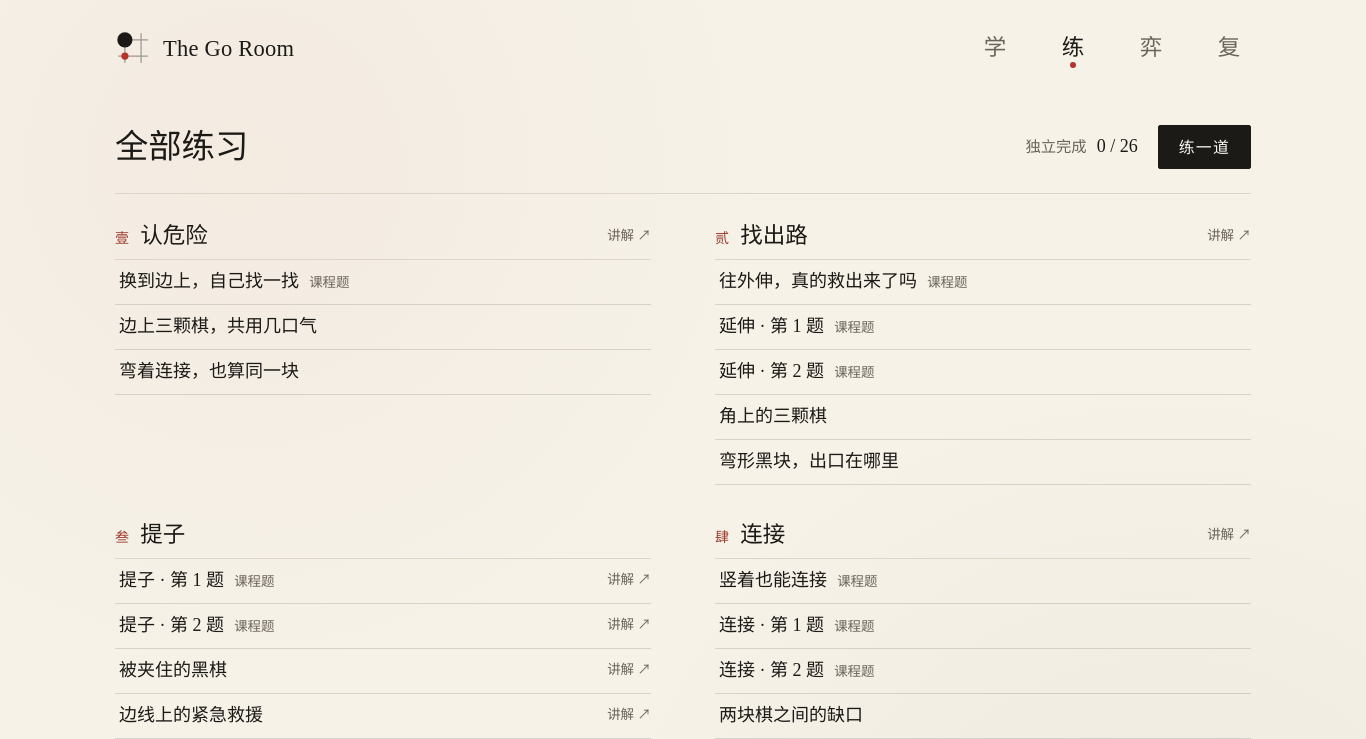
it: practice hub › uses per-kind numbering consistently in the list and exercise, with short explanation titles
The image size is (1366, 739).
Earlier steps of the test are not shown.
Click the button "提子 · 第 1 题".
click(172, 580)  # box [115, 559, 599, 603]
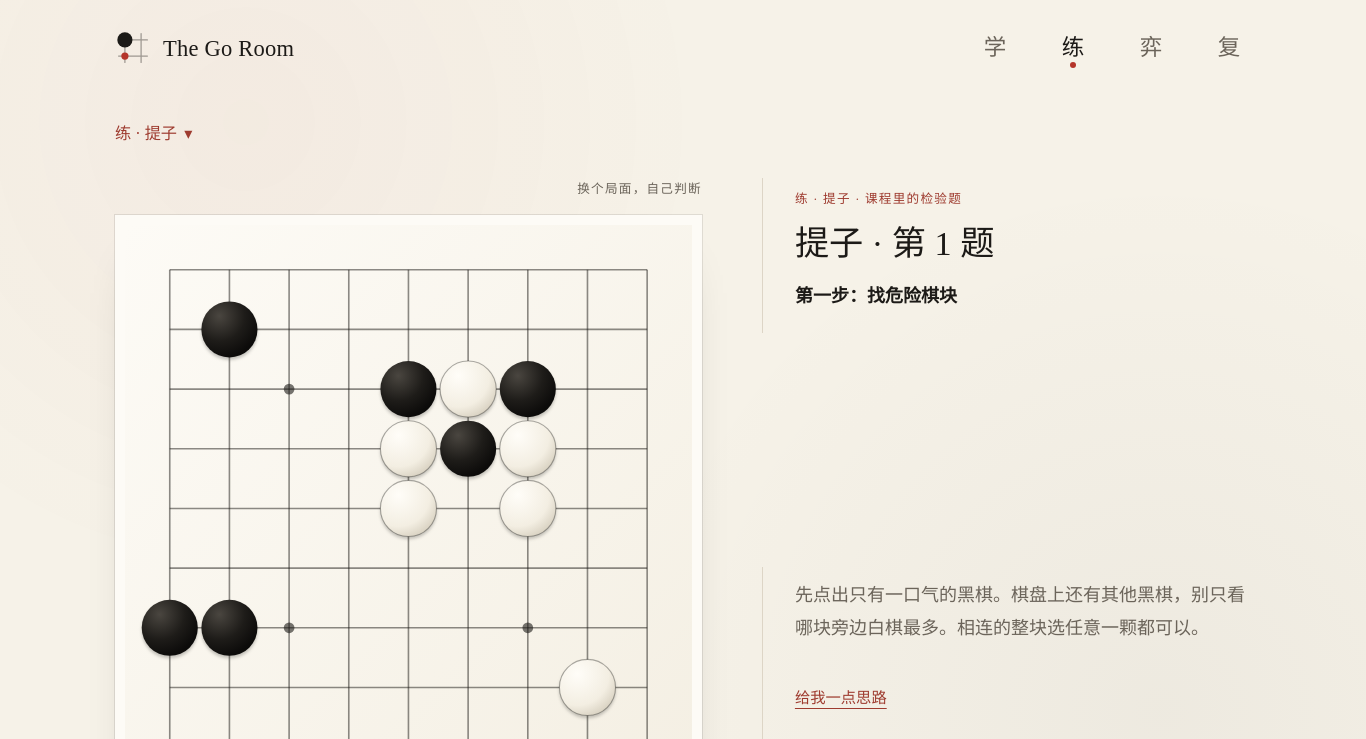
Expected: the heading "提子 · 第 1 题" is shown, [795, 225, 994, 262]
Click the button named "练习".
click(1073, 48)  # box [1051, 26, 1095, 70]
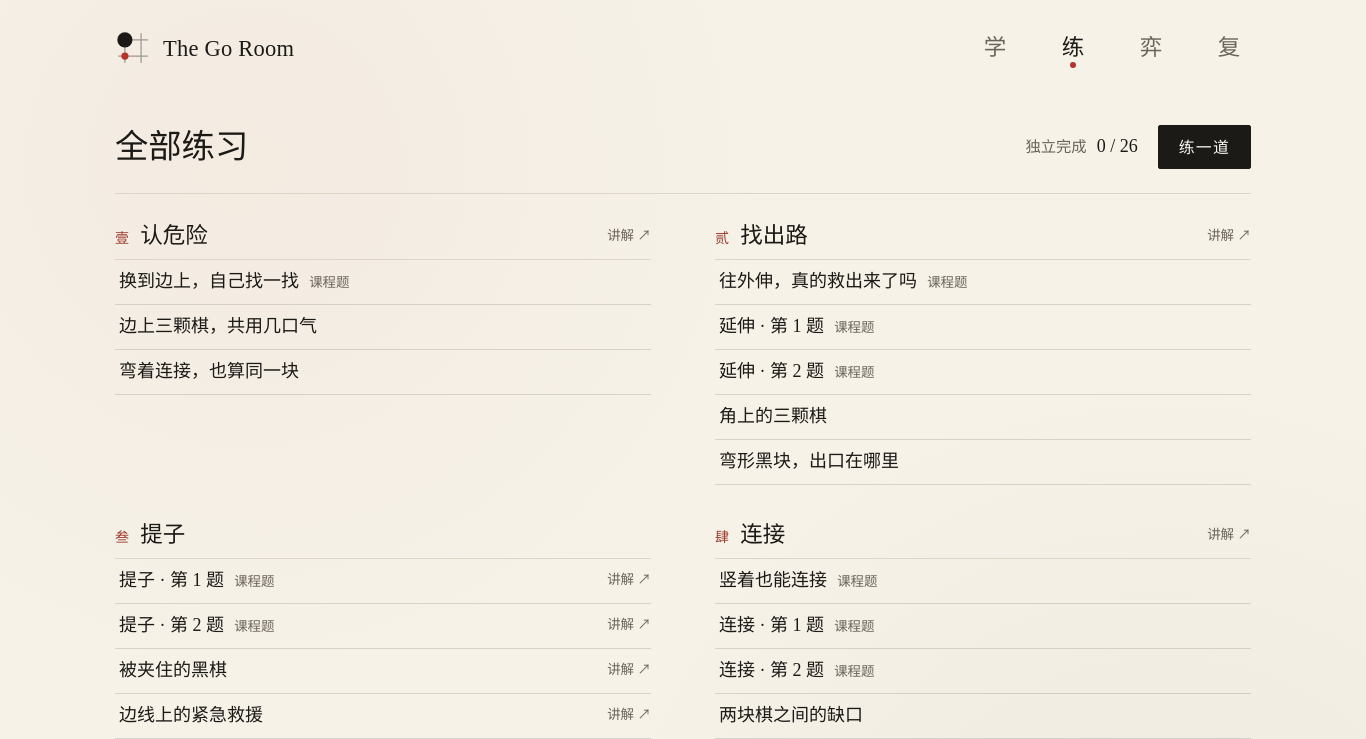
Click the button "提子 · 第 2 题".
click(172, 625)  # box [115, 604, 599, 648]
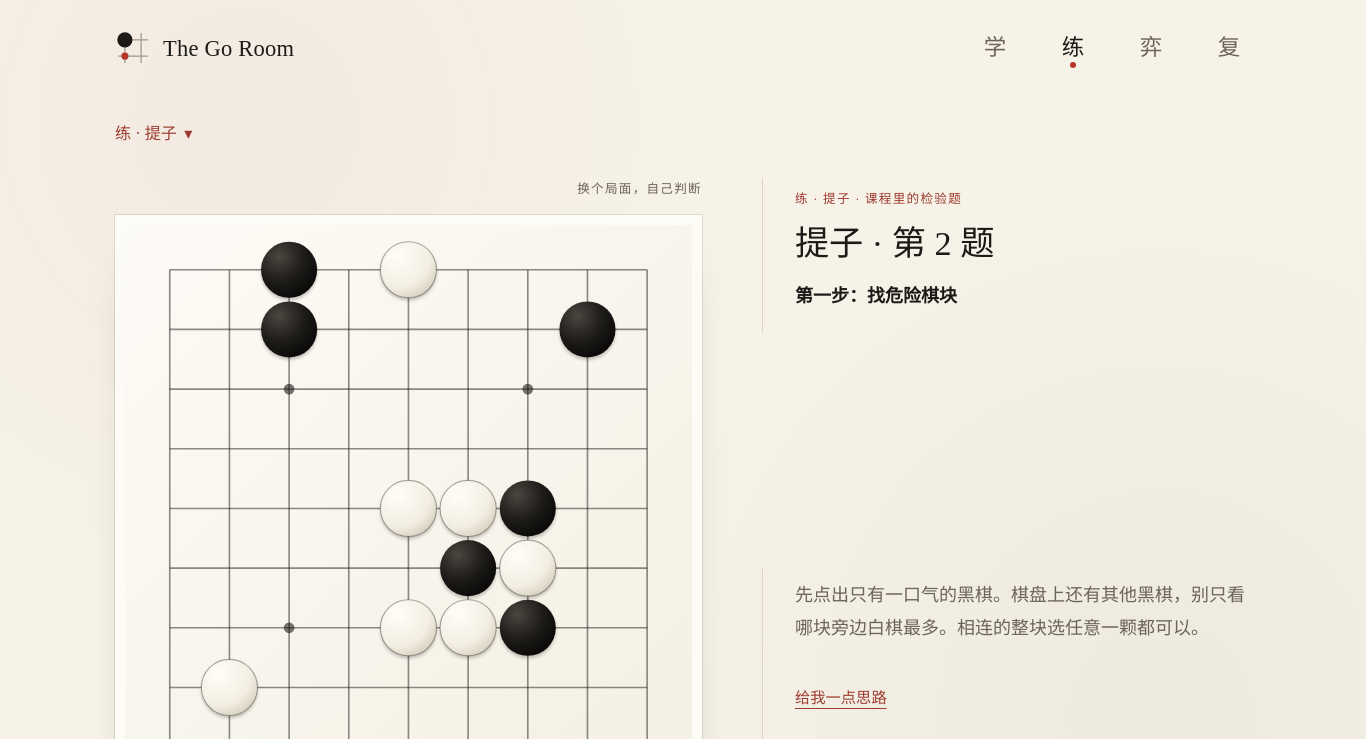
Expected: the heading "提子 · 第 2 题" is shown, [795, 225, 994, 262]
Click the button named "练习".
click(1073, 48)  # box [1051, 26, 1095, 70]
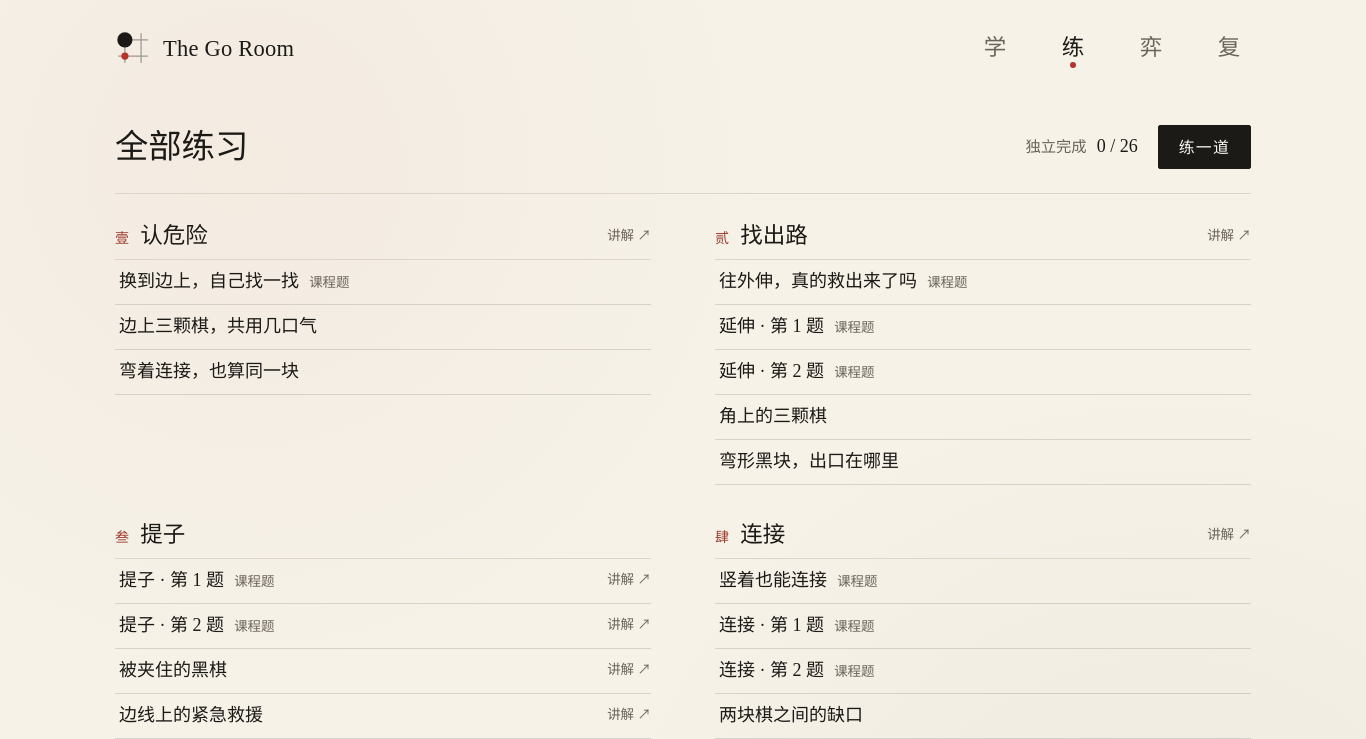
Click the button "连接 · 第 2 题".
click(772, 670)  # box [715, 649, 1251, 693]
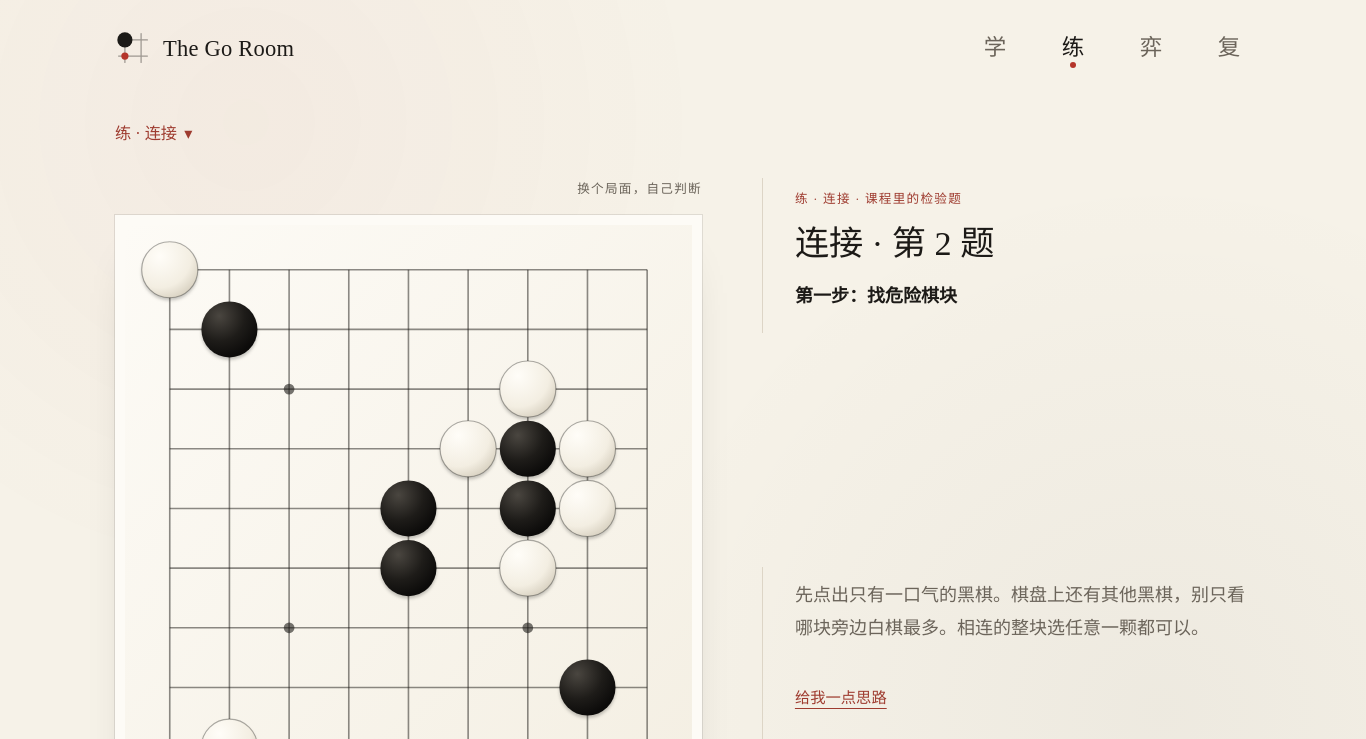
Expected: the heading "连接 · 第 2 题" is shown, [795, 225, 994, 262]
Click the button named "练习".
click(1073, 48)  # box [1051, 26, 1095, 70]
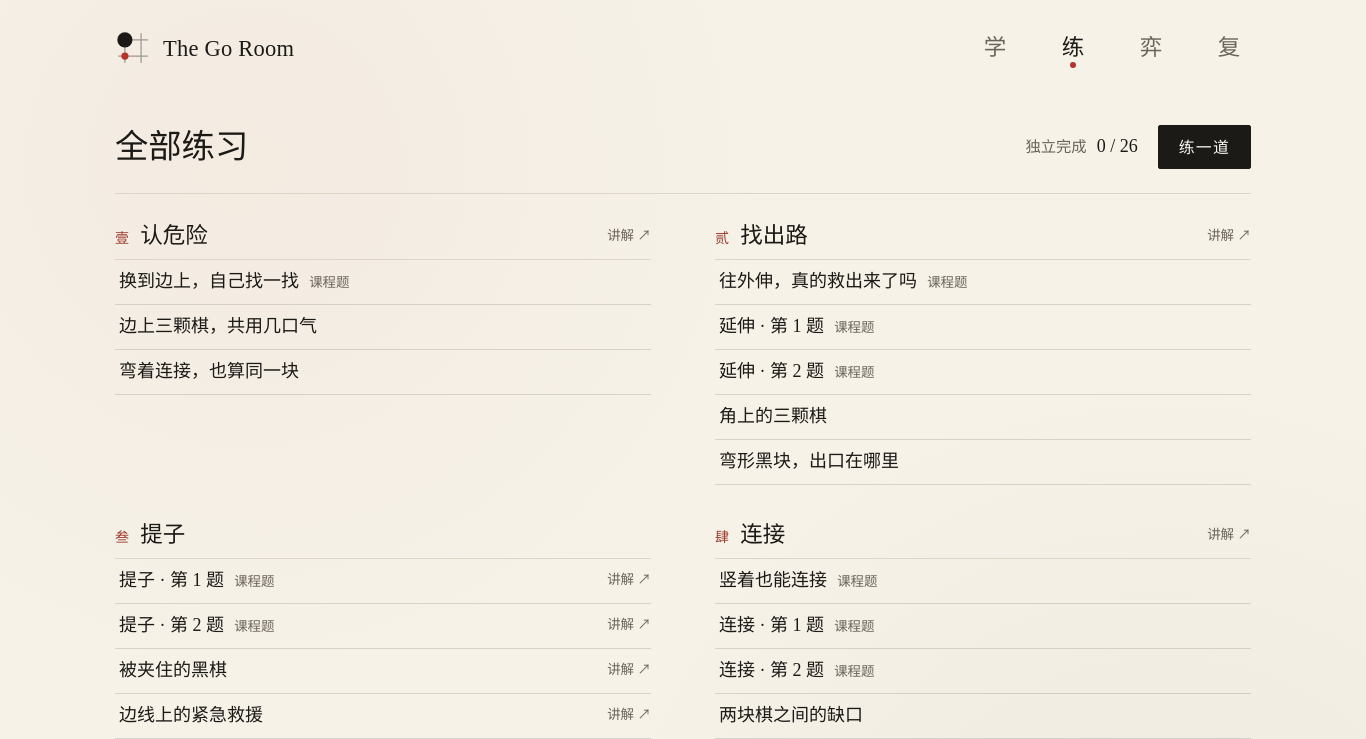
Expected: the button with aria-label "相关讲解：给自己的棋找出路（长气）" is shown, [607, 559, 651, 603]
